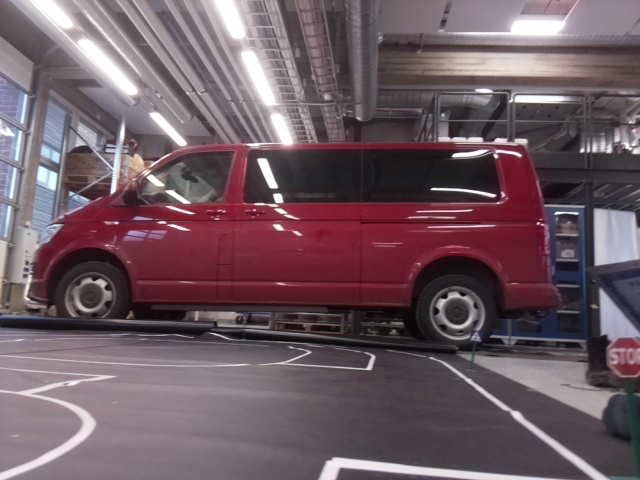Crosswalk: (471, 330, 480, 341)
Stop: (607, 336, 639, 377)
